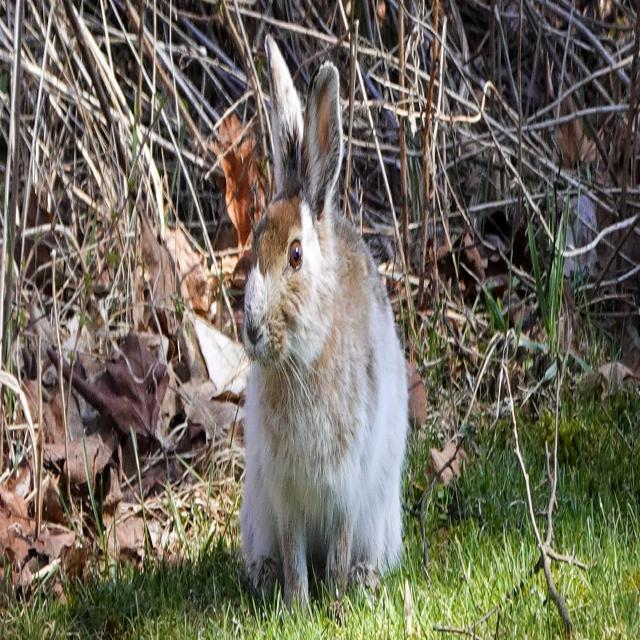hare: (240, 35, 409, 609)
